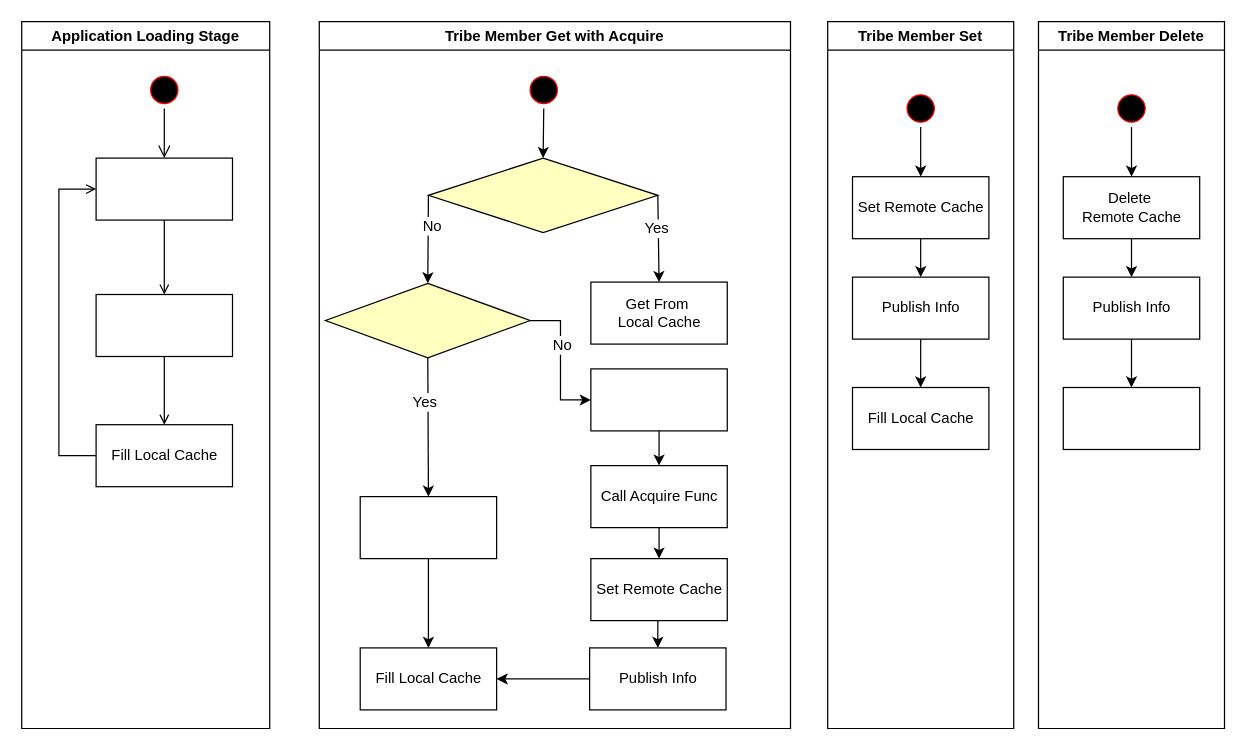
This 1246x750 diagram has some shape labels left out. The centre of each missing label's shape, as x and y in pixels:
Create Temp Key for Tribe to wait: [658,399]
Delete Local Cache: [1131,418]
Get All Items From Remote Cache (Redis): [163,324]
Get From Remote Cache: [428,527]
Local Cache Exists: [542,194]
Remote Cache Exists: [427,320]
Start Observer: [163,188]
